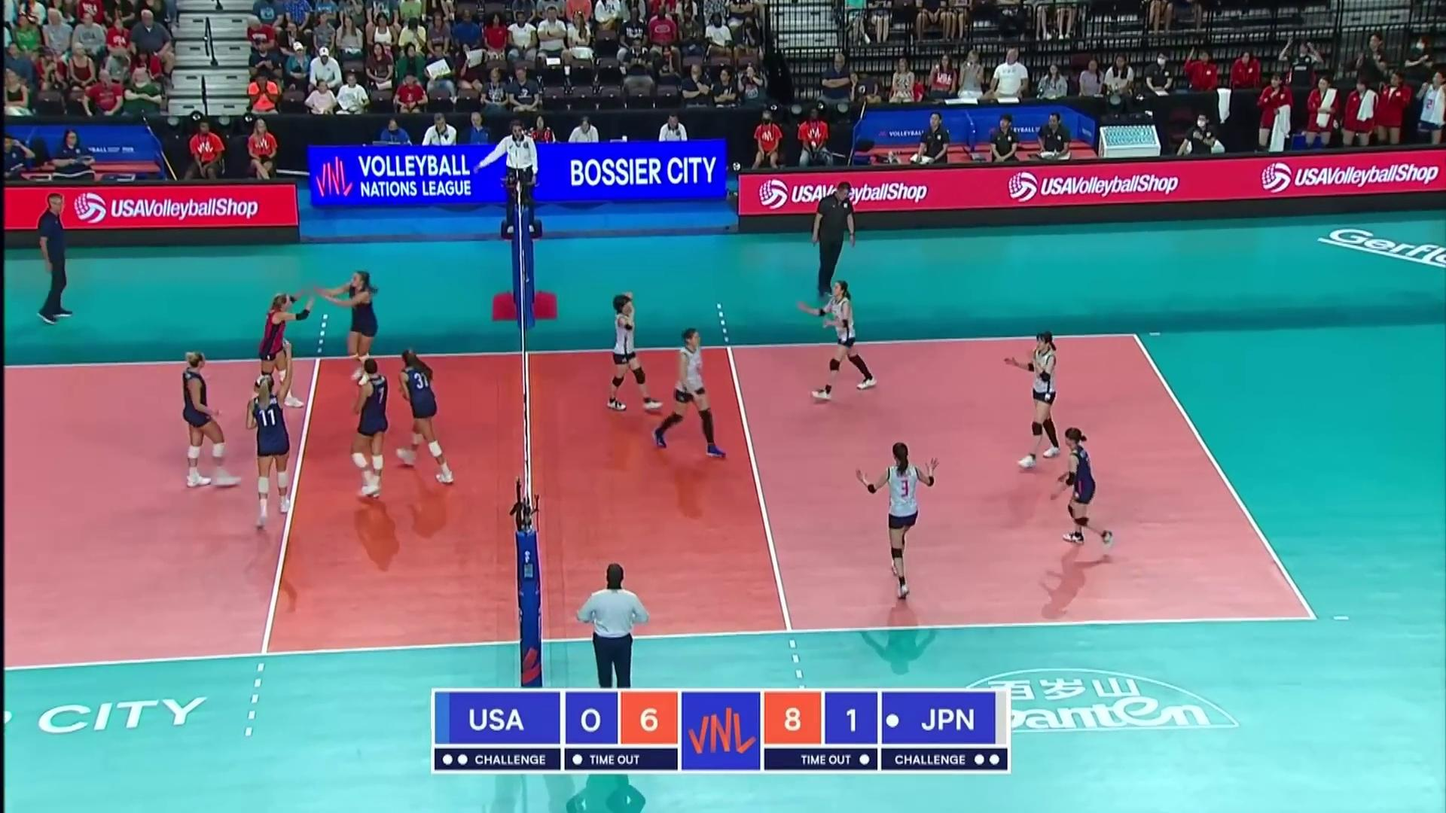player: (861, 442, 940, 604), (654, 326, 728, 458), (804, 281, 880, 402), (1006, 331, 1069, 468), (248, 340, 293, 526), (1050, 427, 1116, 553), (184, 349, 243, 487), (396, 349, 456, 484), (252, 287, 313, 411), (316, 269, 378, 383), (608, 292, 664, 413), (352, 360, 390, 501)
refree: (578, 562, 649, 692), (476, 120, 539, 236)
